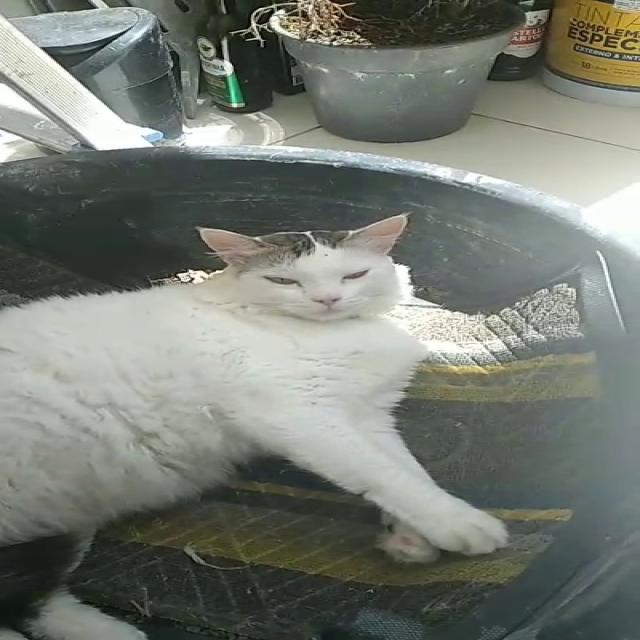Simba: (0, 198, 512, 639)
